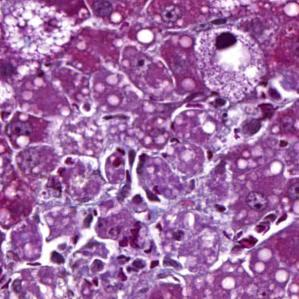ballooning: (192, 25, 268, 100), (4, 0, 75, 60)
